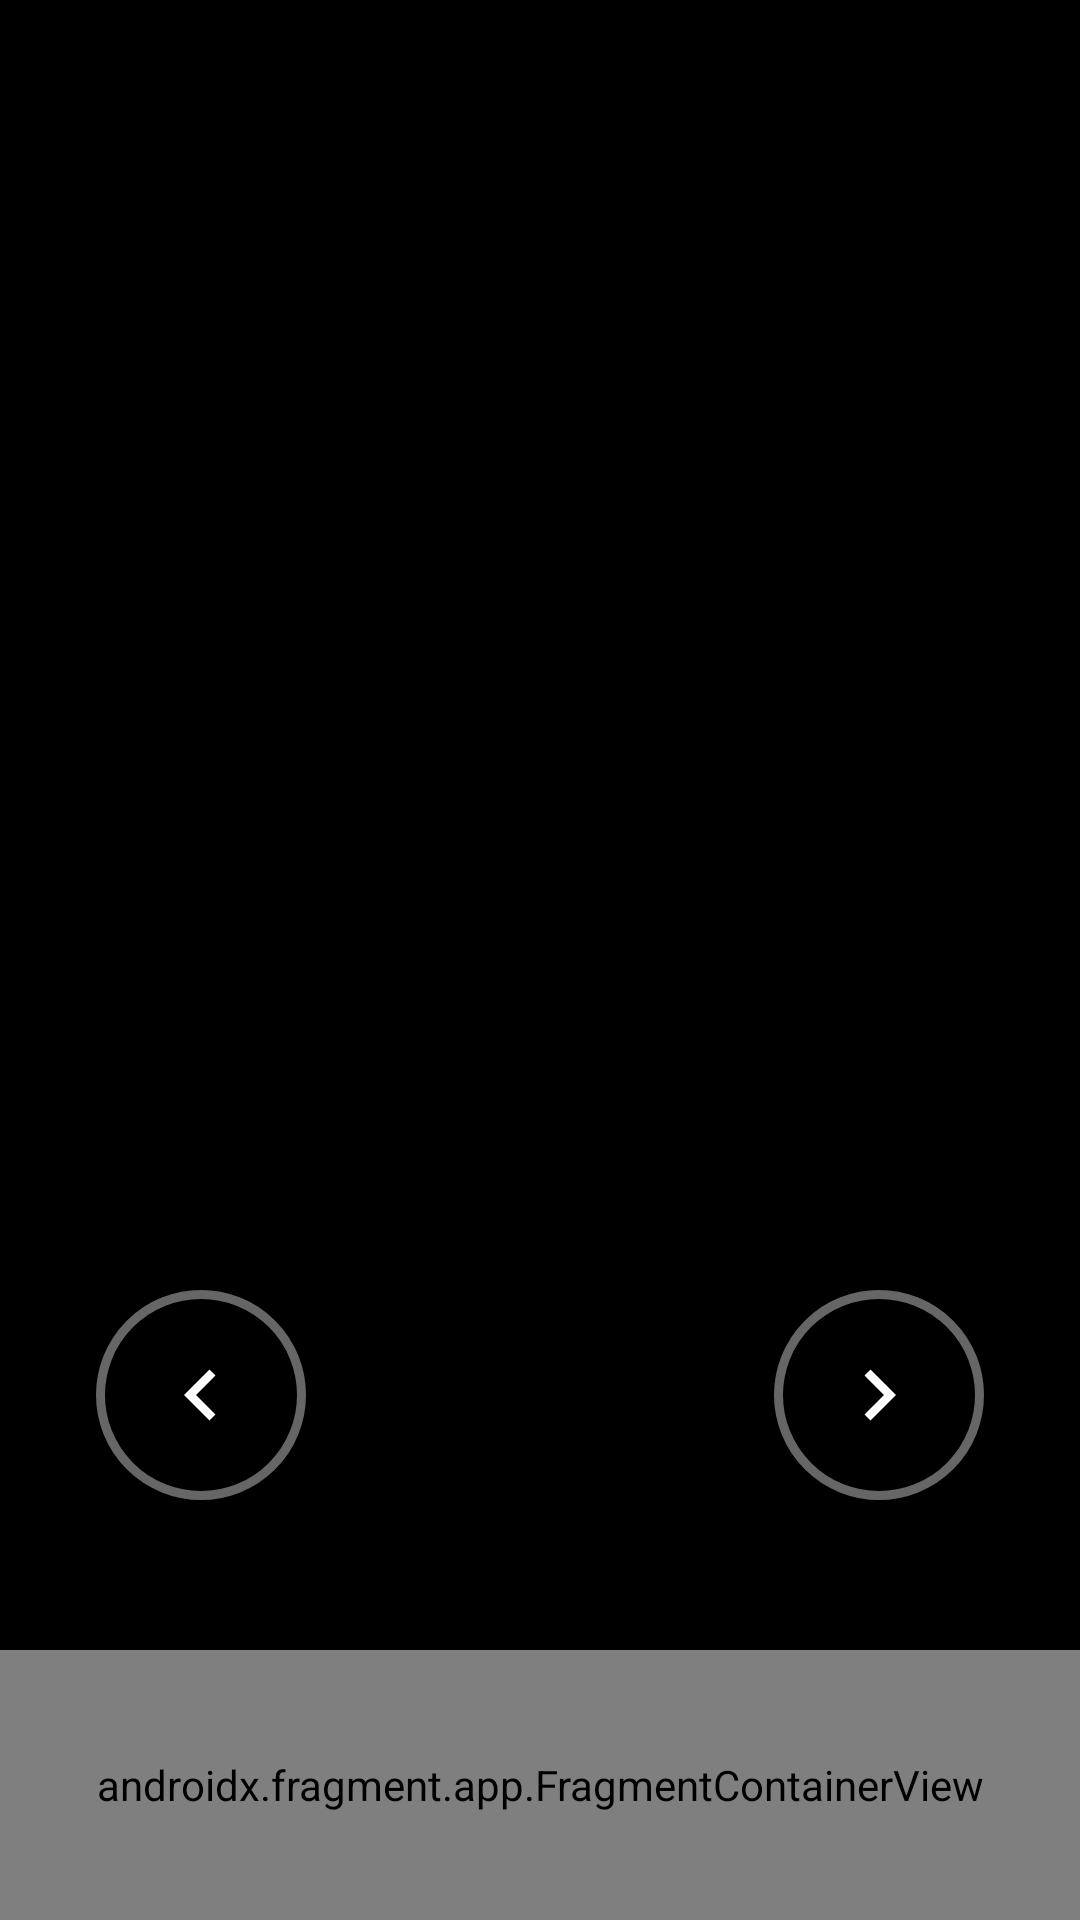

Icon bounding boxes for this 1080x1920 phone screenshot, format (x1, y1, x2, y2):
arrow left: (96, 1290, 306, 1500)
arrow right: (774, 1290, 984, 1500)
